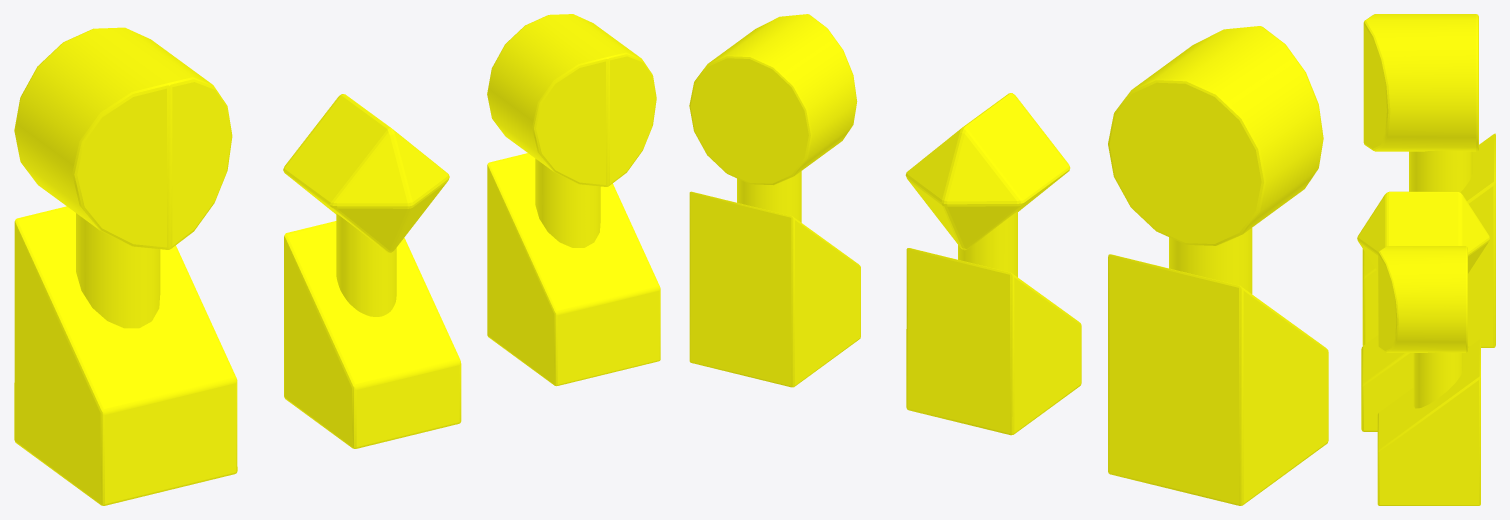
Rendered from SM_Decor_1.glb.
3 renders of one model, left to right at view 1: azimuth 30°, elevation 25°; view 2: azimuth 150°, elevation 25°; view 3: azimuth 270°, elevation 25°, orthographic. The views are drawn at different scales.
Visible parts, largest first — view 1: SM_Decor_1; view 2: SM_Decor_1; view 3: SM_Decor_1.
Boxes of the visible parts, x1,y1,x2,y2 form: SM_Decor_1: (14, 14, 660, 505); SM_Decor_1: (689, 14, 1328, 505); SM_Decor_1: (1357, 14, 1495, 505).
Size of the model in its own units: 0.2043 by 0.1358 by 0.0557.
1 material, 1 textured.
